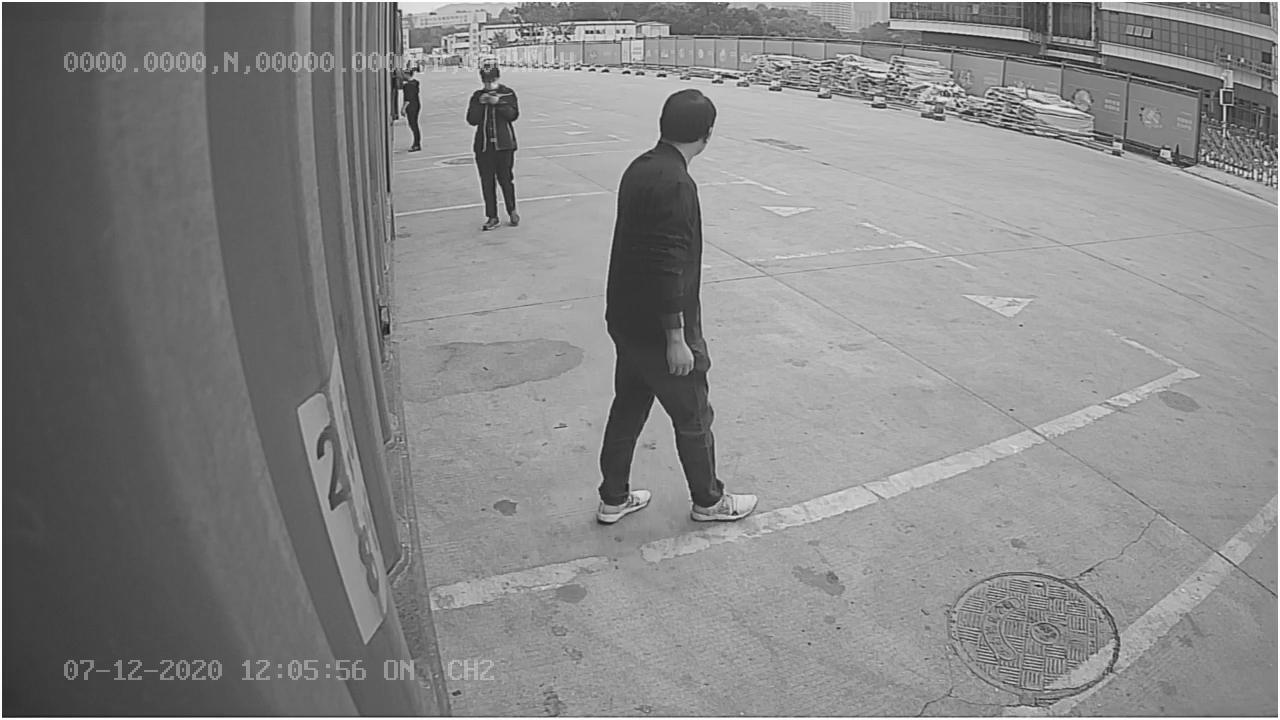person: (595, 88, 758, 525)
